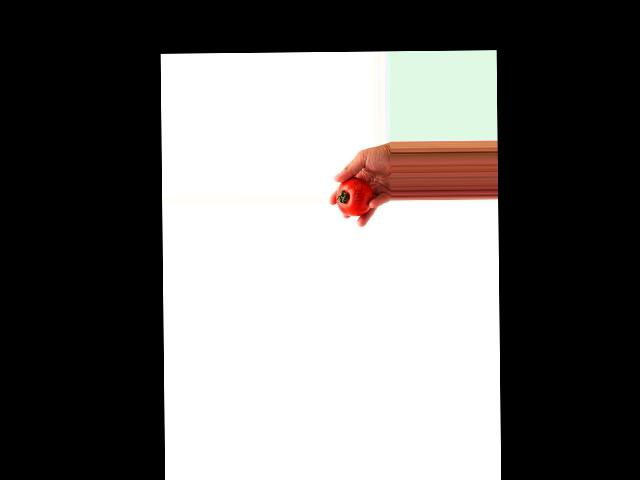tomato: (336, 177, 373, 217)
